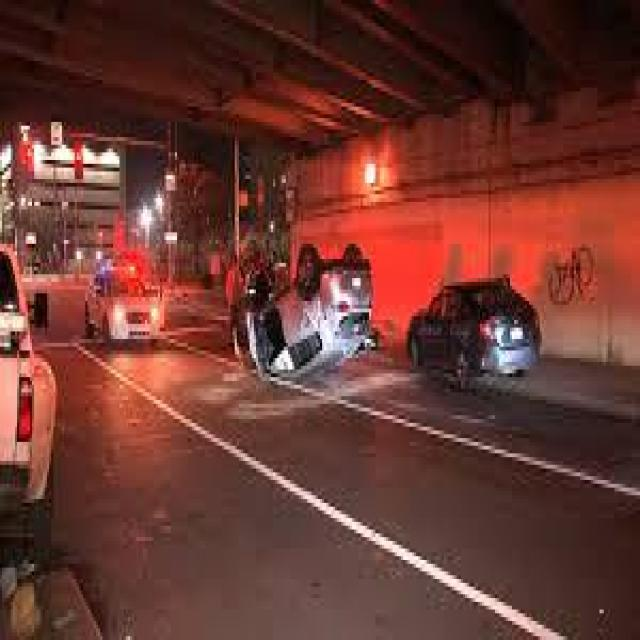severe: (230, 232, 372, 392)
